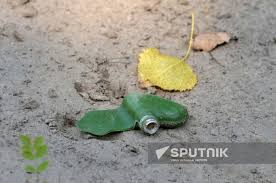butterfly: (73, 90, 189, 140)
